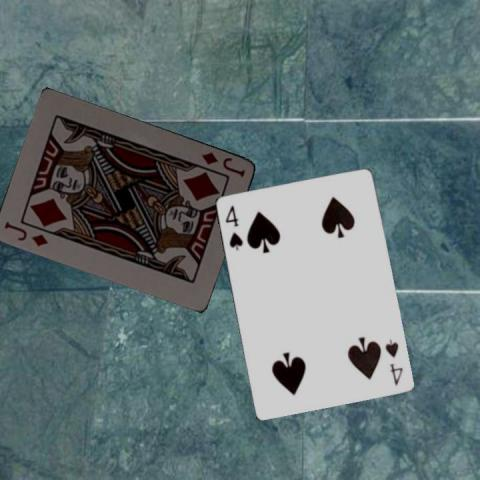4s: (381, 336, 404, 387), (222, 202, 244, 251)
Jd: (1, 218, 50, 248), (199, 149, 247, 179)
